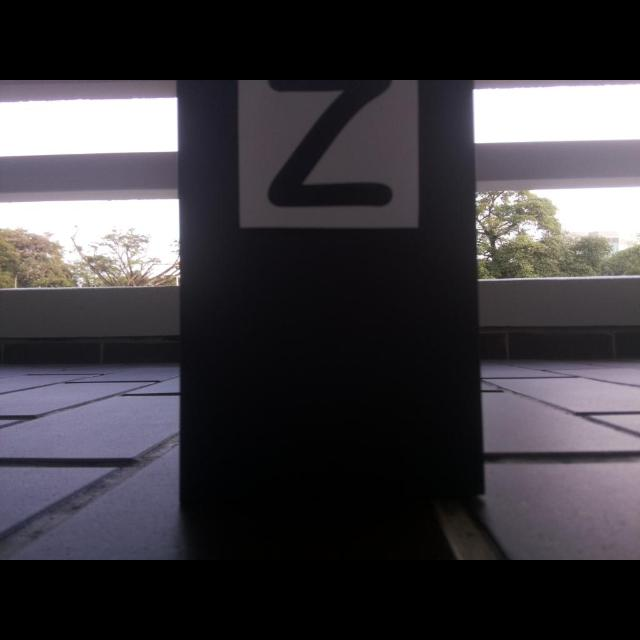Z: (268, 80, 392, 206)
